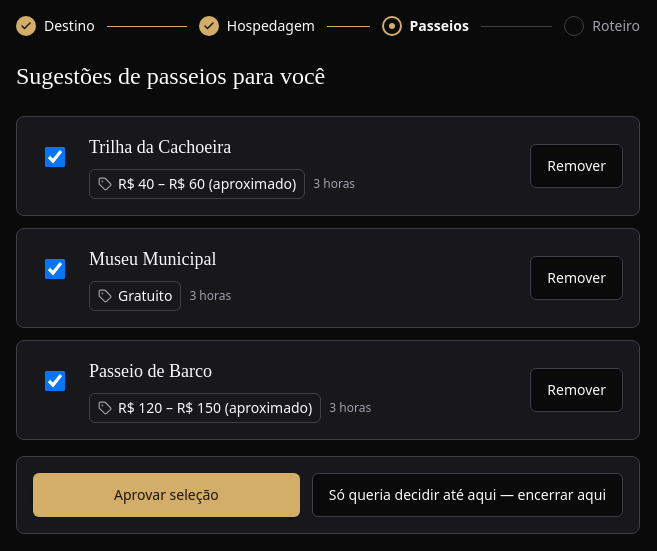
Scenario: PasseiosSugestoesScreen — estado Sucesso › remover um item tira o cartão da lista e o exclui da seleção
The width and height of the screenshot is (657, 551).
Expected: the text "Trilha da Cachoeira" is shown, x1=89 y1=137 x2=231 y2=157
Click the button "Remover" in the row of "R$ 40 – R$ 60 (aproximado)": (577, 166) x1=530 y1=144 x2=623 y2=188
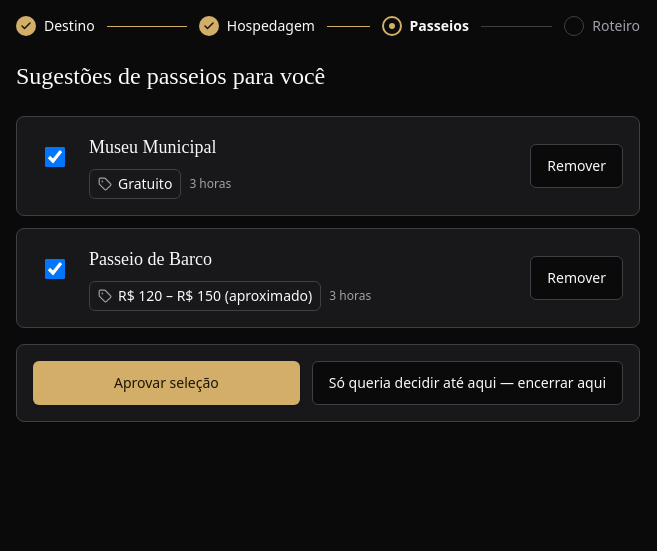
Expected: the number of checkboxes is 2, x1=45 y1=147 x2=65 y2=167; x1=45 y1=259 x2=65 y2=279
Expected: the text "Trilha da Cachoeira" is gone
